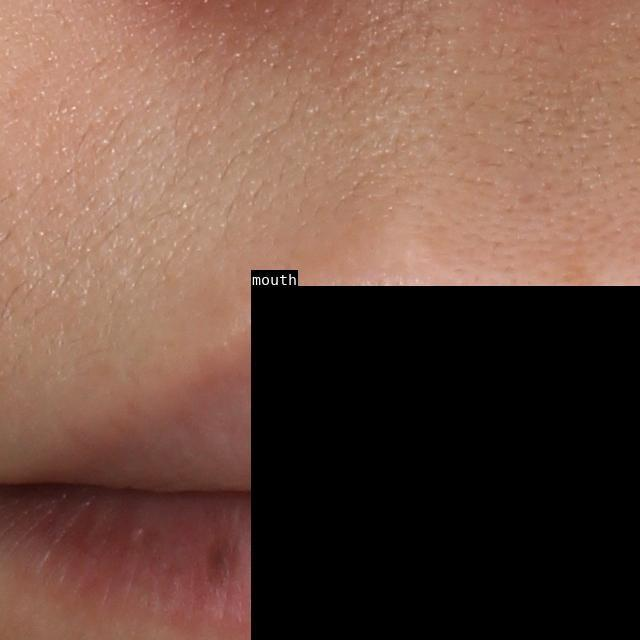nevus: (207, 539, 240, 585)
